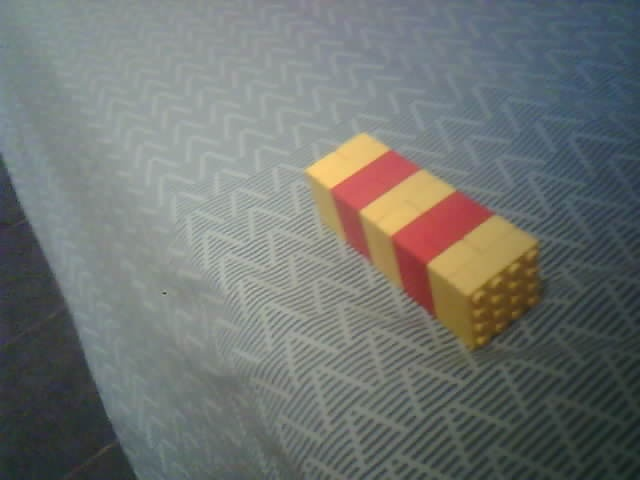lego: (304, 131, 544, 353)
